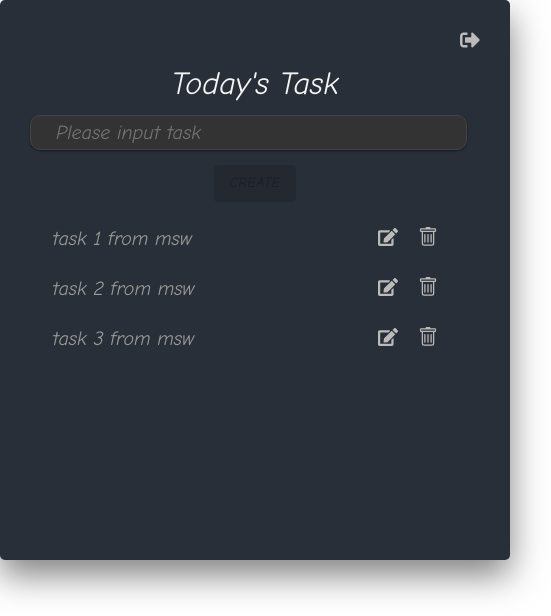
Scenario: タスクメイン画面 › タスク一覧の削除ボタンクリック時 › 一覧から該当タスクが削除されること
The width and height of the screenshot is (551, 616).
Expected: the text "task 3 from msw" is shown, 52,326 -> 194,350
Step 1. Click the 1st button with test id "del-btn" → (428, 239), box 418,226 -> 438,252
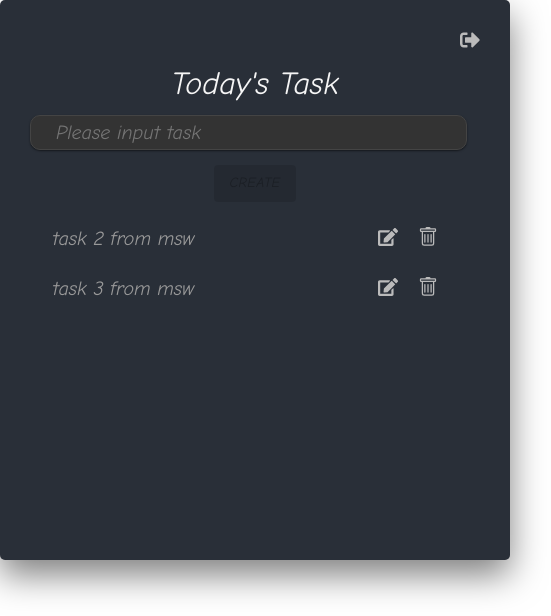
Result: the text "task 1 from msw" is gone
